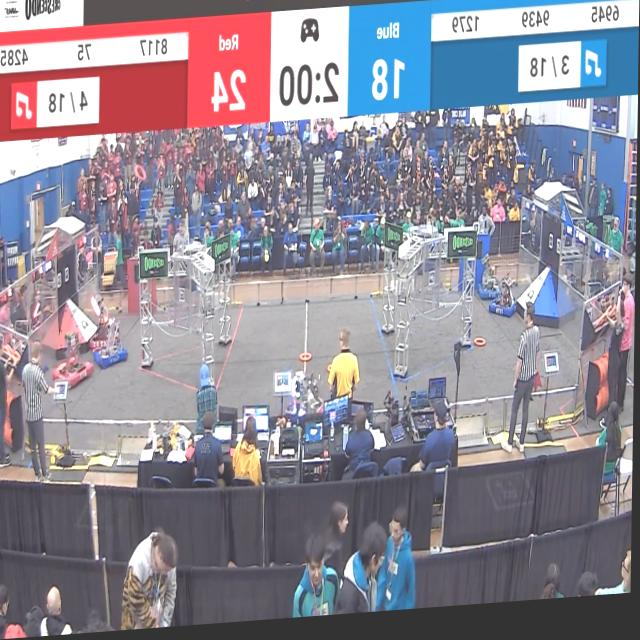Robot: (286, 358, 330, 425), (85, 287, 126, 358), (52, 329, 97, 392), (89, 305, 129, 373), (492, 268, 522, 329), (479, 260, 502, 308)
